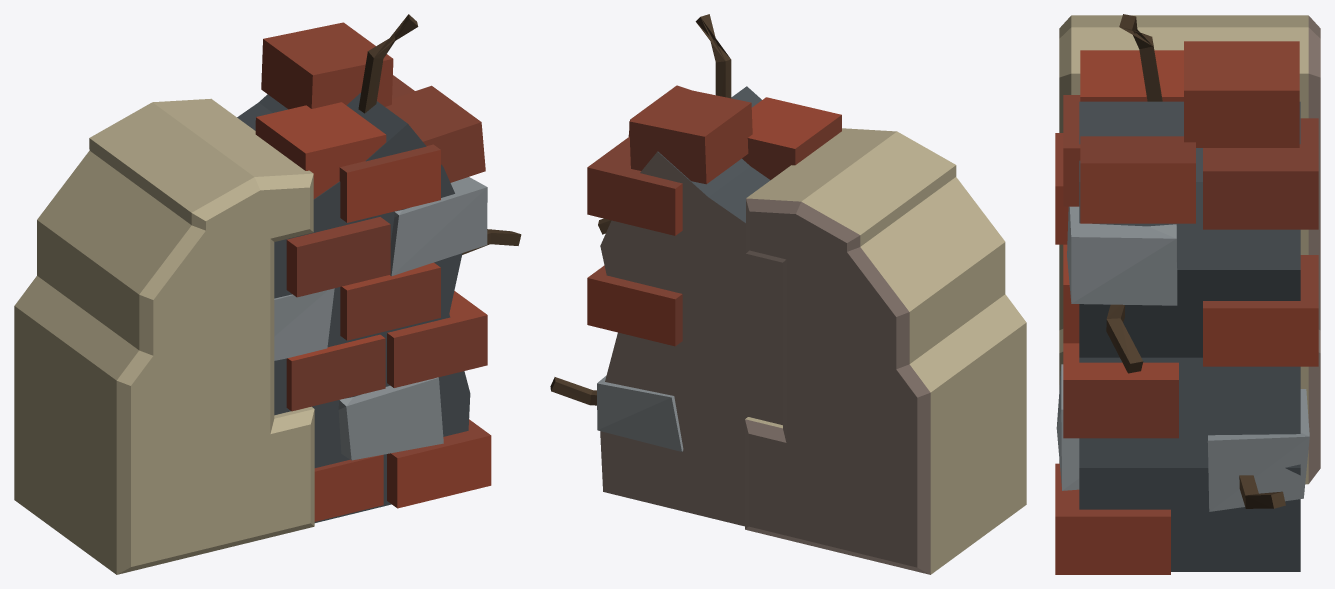
The model's file is masonryRubbleChunk.glb.
3 views of the same model, side by side, from view 1: azimuth 30°, elevation 25°; view 2: azimuth 150°, elevation 25°; view 3: azimuth 270°, elevation 25° (orthographic). The views are drawn at different scales.
Parts seen in each view (by area): view 1: masonry-rubble-chunk; view 2: masonry-rubble-chunk; view 3: masonry-rubble-chunk.
Part boxes in pixels (x1,y1,x2,y2): masonry-rubble-chunk: (14, 14, 521, 574); masonry-rubble-chunk: (550, 14, 1026, 574); masonry-rubble-chunk: (1055, 14, 1320, 574).
Size of the model in its own units: 0.5734 by 0.5891 by 0.264.
